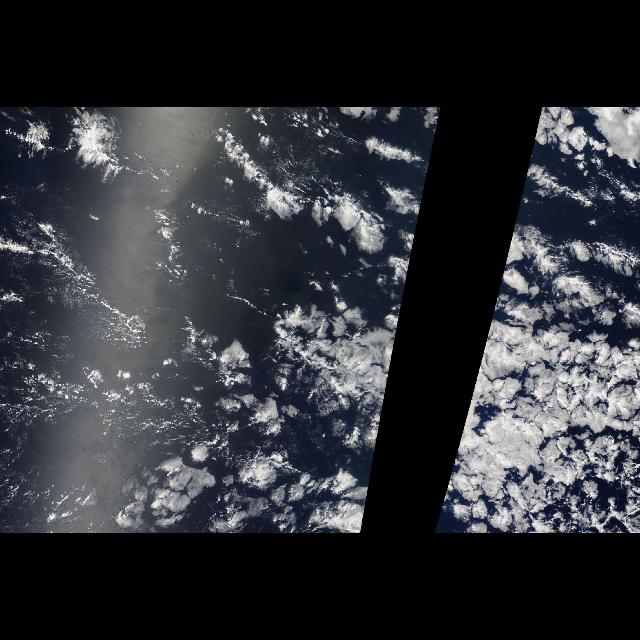Flower: (174, 109, 442, 534), (433, 109, 639, 534)
